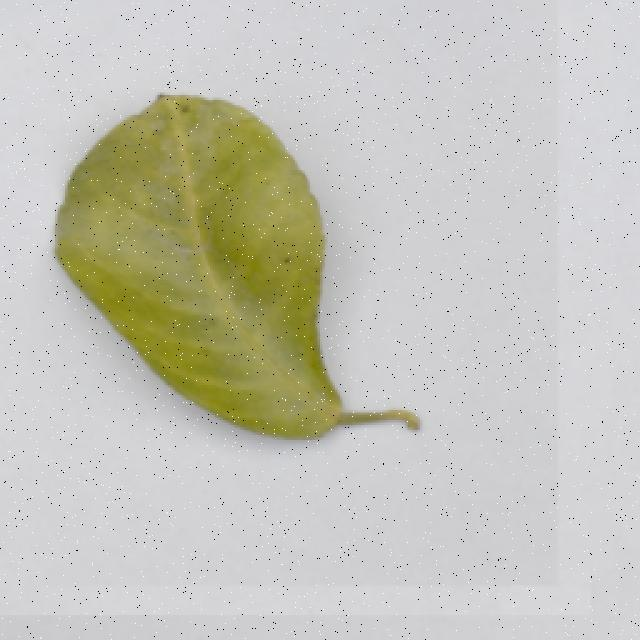greening: (45, 75, 442, 456)
